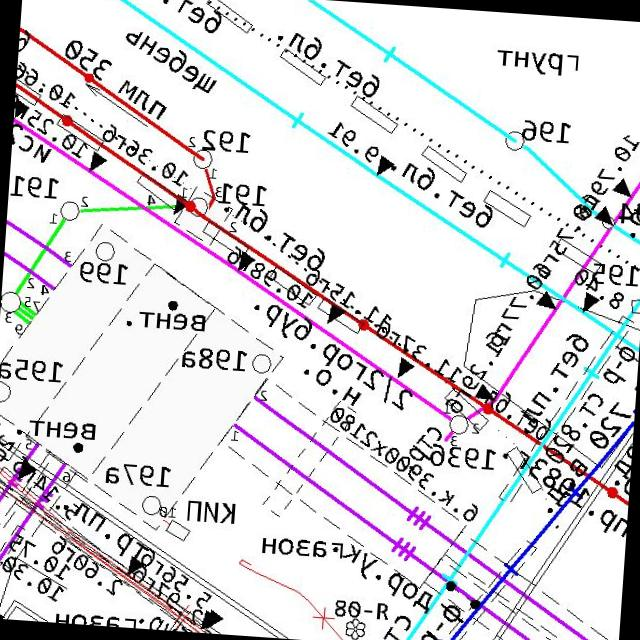bushes: (343, 615, 367, 640)
mark: (592, 202, 616, 227), (374, 153, 397, 179), (235, 248, 258, 274), (610, 175, 634, 199), (580, 290, 602, 316), (87, 149, 109, 174), (534, 288, 558, 310), (473, 381, 498, 402), (326, 302, 347, 326), (396, 355, 416, 379), (126, 554, 146, 578), (18, 458, 37, 481)
well: (92, 238, 117, 264), (249, 351, 273, 376), (139, 492, 163, 517), (446, 412, 471, 436), (503, 128, 527, 152), (58, 199, 82, 223), (190, 147, 213, 171), (186, 194, 209, 218)
